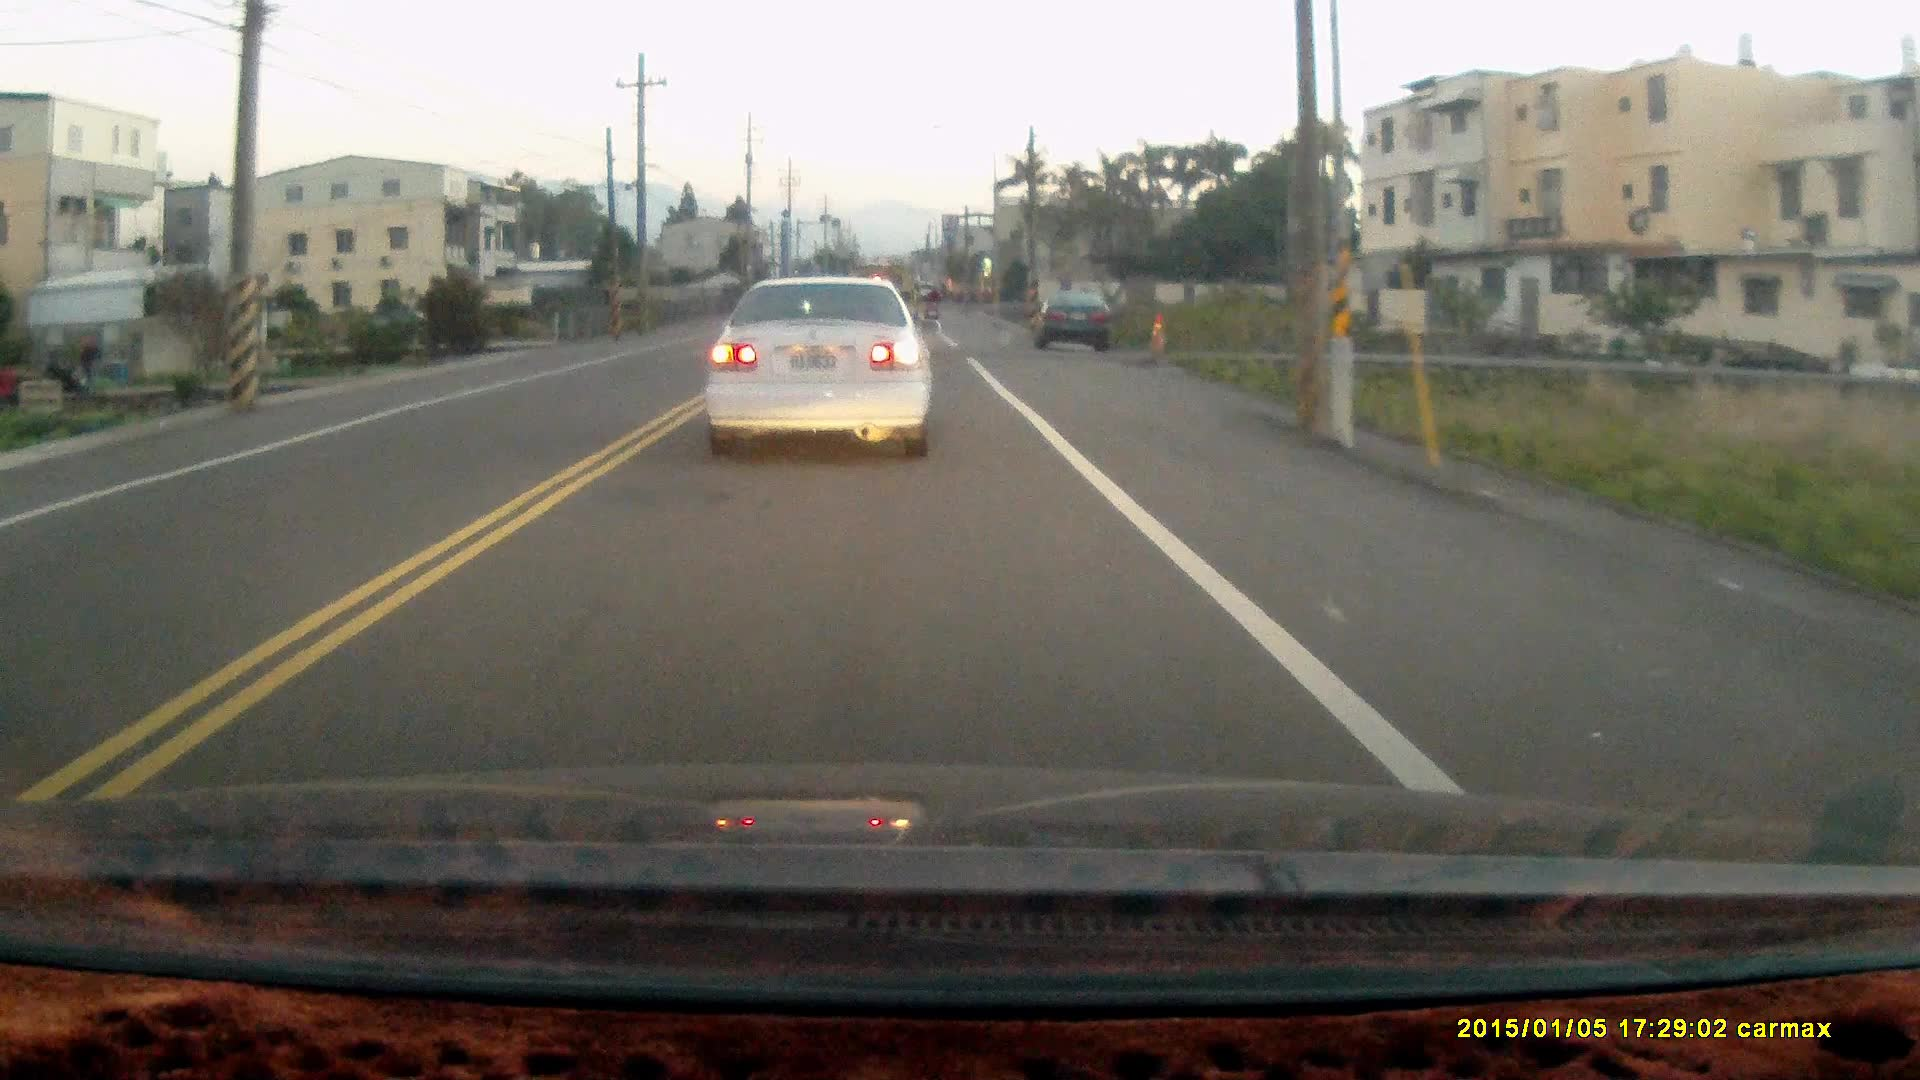pedestrian: (76, 330, 101, 397), (0, 356, 23, 417)
vehicle: (702, 273, 936, 463), (1032, 286, 1115, 352)
